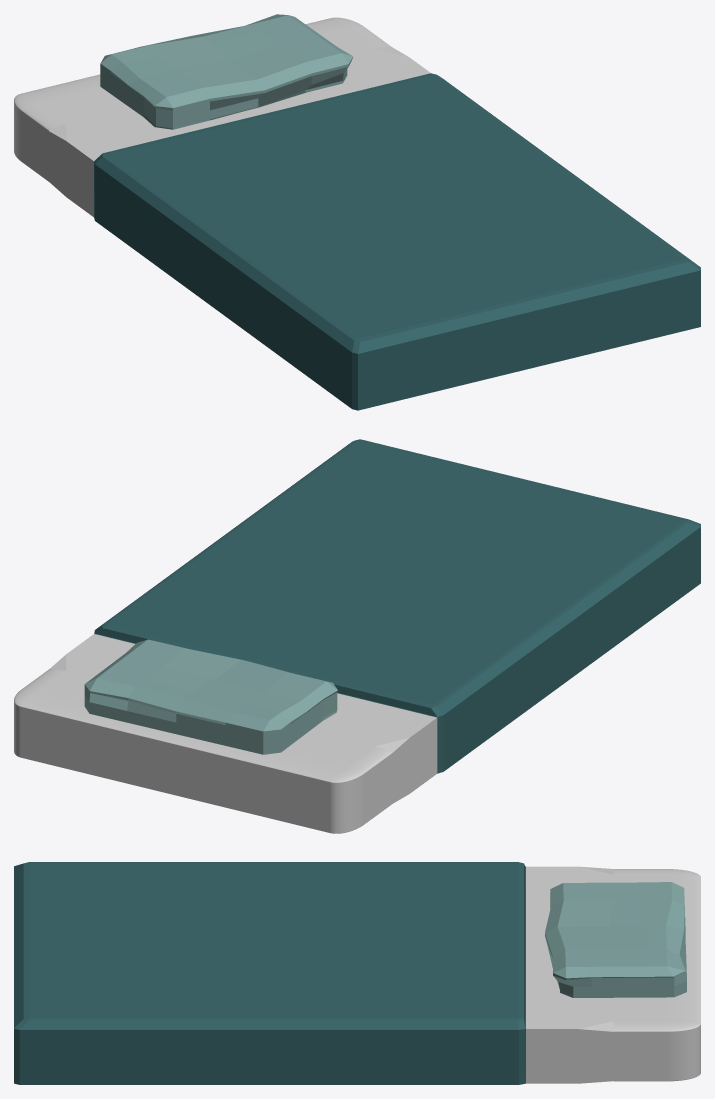
The model's file is bed.gltf.
The picture shows the model from 3 angles, top to bottom: view 1: azimuth 30°, elevation 25°; view 2: azimuth 150°, elevation 25°; view 3: azimuth 270°, elevation 25°; orthographic projection. The views are drawn at different scales.
Parts seen in each view (by area): view 1: Cube, Cube.002, Cube.001; view 2: Cube, Cube.001, Cube.002; view 3: Cube, Cube.001, Cube.002.
Part boxes in pixels (x1=…): Cube: x1=94, y1=73, x2=700, y2=410; Cube.002: x1=100, y1=14, x2=353, y2=129; Cube.001: x1=14, y1=17, x2=430, y2=216; Cube: x1=94, y1=439, x2=700, y2=773; Cube.001: x1=14, y1=634, x2=437, y2=833; Cube.002: x1=84, y1=639, x2=337, y2=754; Cube: x1=14, y1=862, x2=525, y2=1084; Cube.001: x1=526, y1=866, x2=700, y2=1083; Cube.002: x1=545, y1=882, x2=686, y2=997.
Size of the model in its own units: 6.15 by 1.45 by 10.81.
